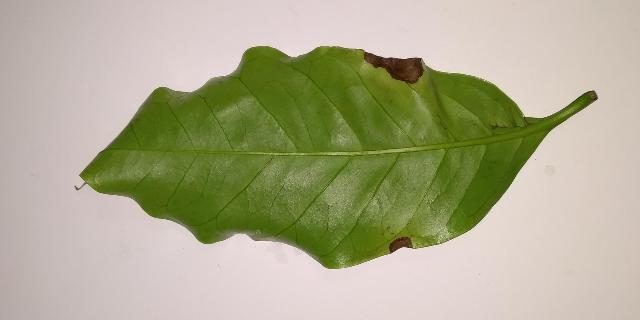rust: (362, 50, 427, 83), (388, 237, 413, 254)
